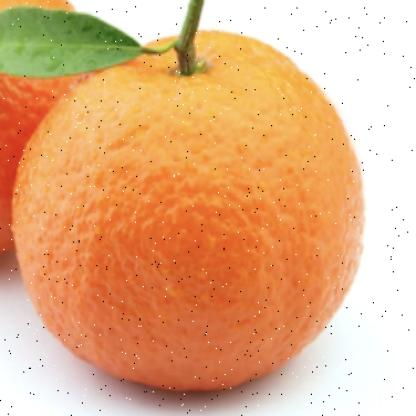fresh: (12, 27, 368, 390)
